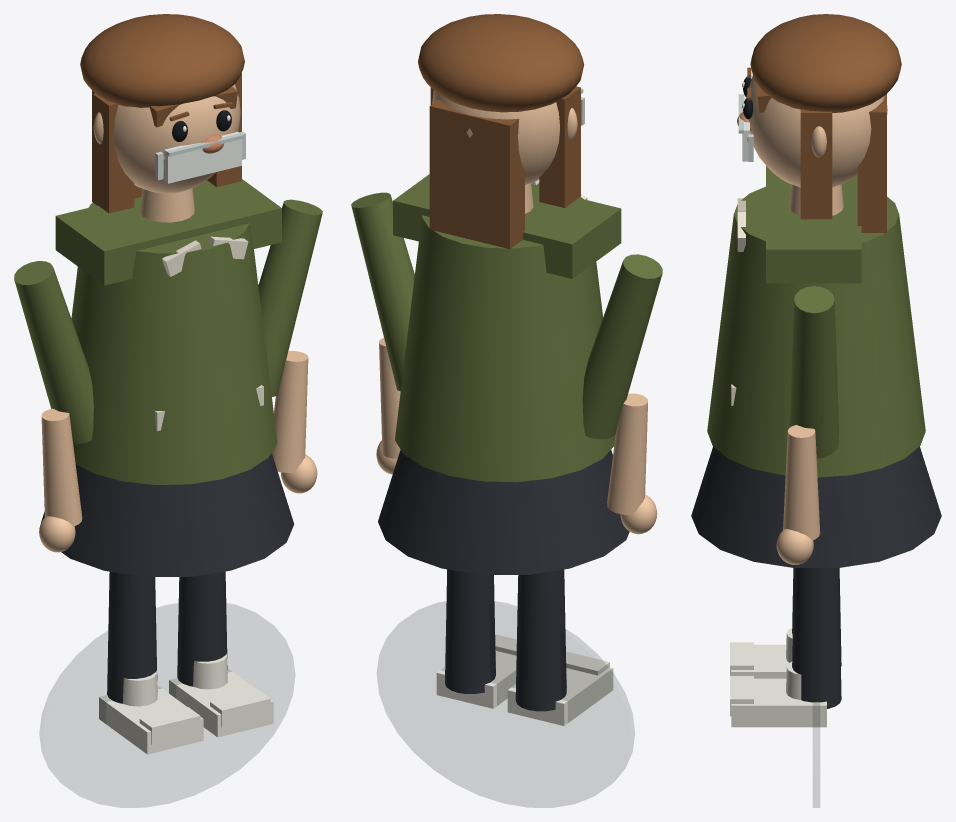
File: customer_09.glb
3 renders of one model, left to right at view 1: azimuth 30°, elevation 25°; view 2: azimuth 150°, elevation 25°; view 3: azimuth 270°, elevation 25°, orthographic. The views are drawn at different scales.
Parts seen in each view (by area): view 1: torso, contact_shadow, skirt, hair_cap, shoulder_line, upper_arm_-0.235, upper_arm_0.235, head, leg_-0.075, leg_0.075, forearm_-0.235, forearm_0.235 (+13 smaller); view 2: torso, contact_shadow, skirt, hair_cap, back_hair, upper_arm_-0.235, shoulder_line, leg_-0.075, upper_arm_0.235, leg_0.075, forearm_-0.235, head (+6 smaller); view 3: torso, skirt, hair_cap, shoulder_line, upper_arm_0.235, leg_0.075, head, forearm_0.235, shoe_0.075, side_hair_0.115, back_hair, shoe_-0.075 (+6 smaller).
Boxes of the visible parts, bbox=[...] form: torso: bbox=[71, 203, 277, 484]; contact_shadow: bbox=[40, 603, 294, 807]; skirt: bbox=[41, 453, 294, 576]; hair_cap: bbox=[80, 14, 244, 107]; shoulder_line: bbox=[55, 179, 281, 285]; upper_arm_-0.235: bbox=[14, 261, 93, 444]; upper_arm_0.235: bbox=[258, 199, 322, 396]; head: bbox=[113, 84, 240, 193]; leg_-0.075: bbox=[107, 571, 157, 703]; leg_0.075: bbox=[177, 571, 227, 686]; forearm_-0.235: bbox=[41, 408, 82, 526]; forearm_0.235: bbox=[271, 351, 308, 472]; torso: bbox=[395, 183, 615, 482]; contact_shadow: bbox=[377, 601, 634, 807]; skirt: bbox=[378, 449, 629, 574]; hair_cap: bbox=[418, 14, 583, 112]; back_hair: bbox=[429, 99, 524, 248]; upper_arm_-0.235: bbox=[582, 254, 662, 439]; shoulder_line: bbox=[393, 174, 621, 278]; leg_-0.075: bbox=[515, 569, 566, 711]; upper_arm_0.235: bbox=[351, 192, 414, 391]; leg_0.075: bbox=[445, 569, 495, 693]; forearm_-0.235: bbox=[607, 393, 647, 514]; head: bbox=[432, 90, 559, 184]; torso: bbox=[707, 186, 925, 477]; skirt: bbox=[691, 446, 941, 567]; hair_cap: bbox=[750, 14, 901, 112]; shoulder_line: bbox=[766, 166, 861, 283]; upper_arm_0.235: bbox=[789, 286, 838, 458]; leg_0.075: bbox=[792, 568, 841, 708]; head: bbox=[746, 75, 887, 187]; forearm_0.235: bbox=[783, 425, 820, 540]; shoe_0.075: bbox=[731, 678, 826, 727]; side_hair_0.115: bbox=[800, 109, 832, 219]; back_hair: bbox=[857, 94, 886, 232]; shoe_-0.075: bbox=[731, 644, 788, 678].
Size of the model in its own units: 0.623 by 1.51 by 0.4512.
